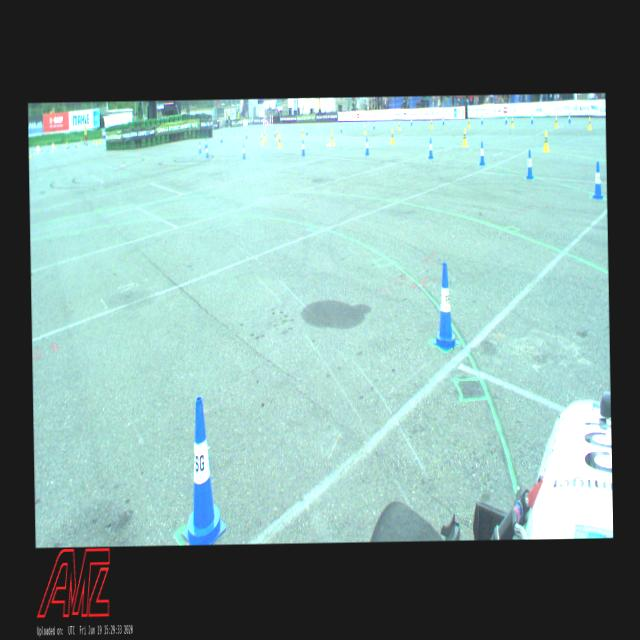blue_cone: (180, 396, 226, 544), (431, 262, 458, 351), (591, 160, 603, 199), (526, 150, 534, 178), (478, 141, 484, 165), (428, 137, 432, 158), (241, 143, 246, 159), (364, 136, 368, 155), (301, 140, 305, 156), (204, 143, 208, 157), (304, 126, 308, 136), (198, 141, 201, 153), (245, 130, 248, 138), (339, 124, 342, 132), (220, 132, 222, 143), (568, 111, 570, 122), (274, 128, 276, 138), (372, 120, 374, 130), (204, 138, 206, 148), (530, 113, 532, 123), (504, 114, 506, 123), (480, 115, 482, 124), (442, 116, 444, 124), (410, 118, 412, 126)
yellow_cone: (542, 130, 550, 152), (462, 128, 467, 146), (390, 128, 394, 144), (587, 116, 591, 130), (277, 134, 281, 147), (330, 130, 333, 146), (260, 133, 264, 145), (300, 128, 304, 137), (554, 116, 557, 128), (510, 118, 513, 128), (263, 128, 265, 140), (398, 121, 400, 131), (276, 128, 278, 138), (468, 118, 470, 128), (430, 120, 432, 129), (363, 124, 365, 133), (330, 128, 332, 135)
